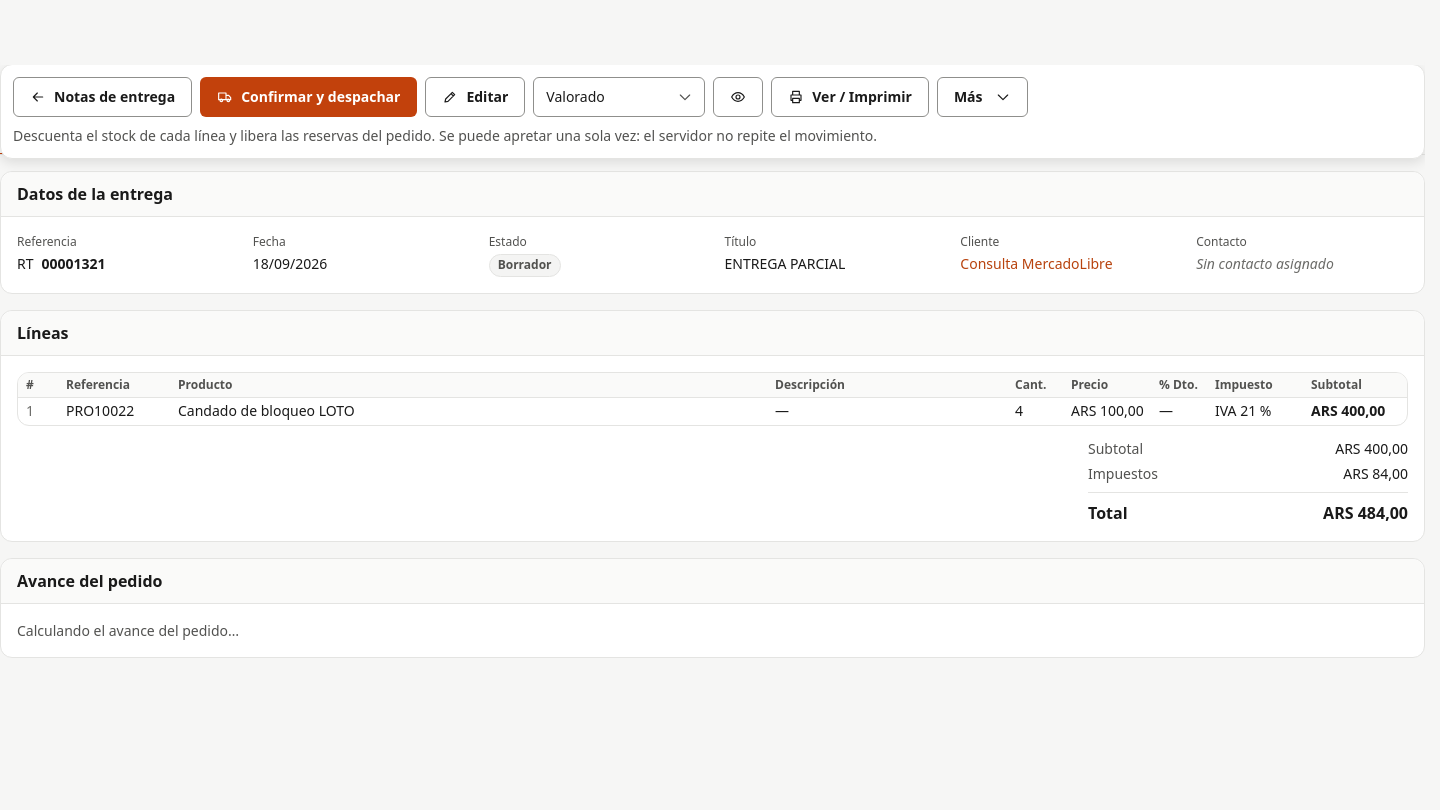
Test: Remito · edición del borrador › muestra lo pedido y lo que quedaría pendiente después de este remito
Step 1. Click the button "Editar" → (475,97), box [425,77,525,117]
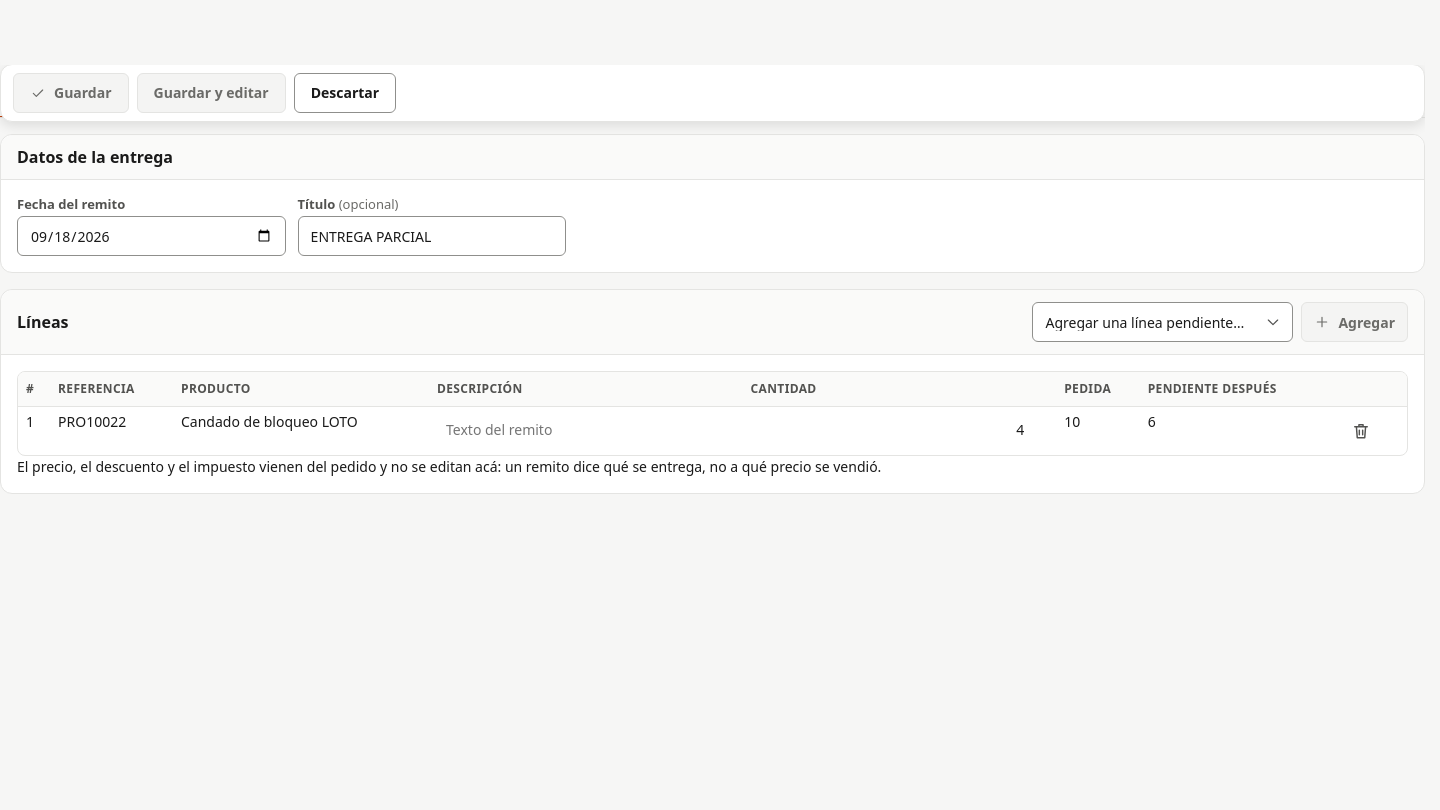
Check: the text "10" is shown, box [1056,407,1140,455]
Check: the text "6" is shown, box [1140,407,1332,455]
Step 2. Replace the text in the number field named "Cantidad de PRO10022" with "10" → (899,429), box [751,411,1048,447]
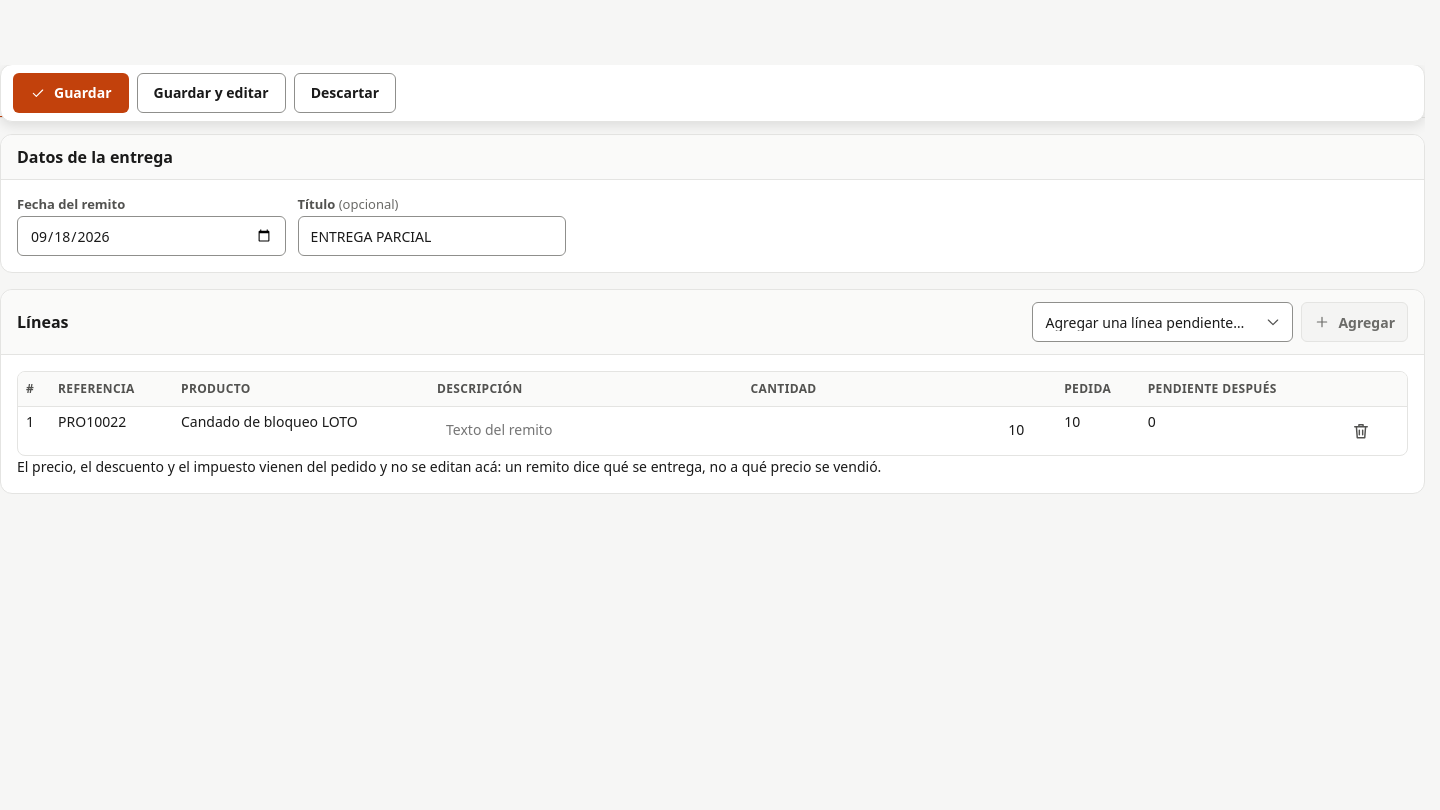
Check: the text "0" is shown, box [1140,407,1332,455]
